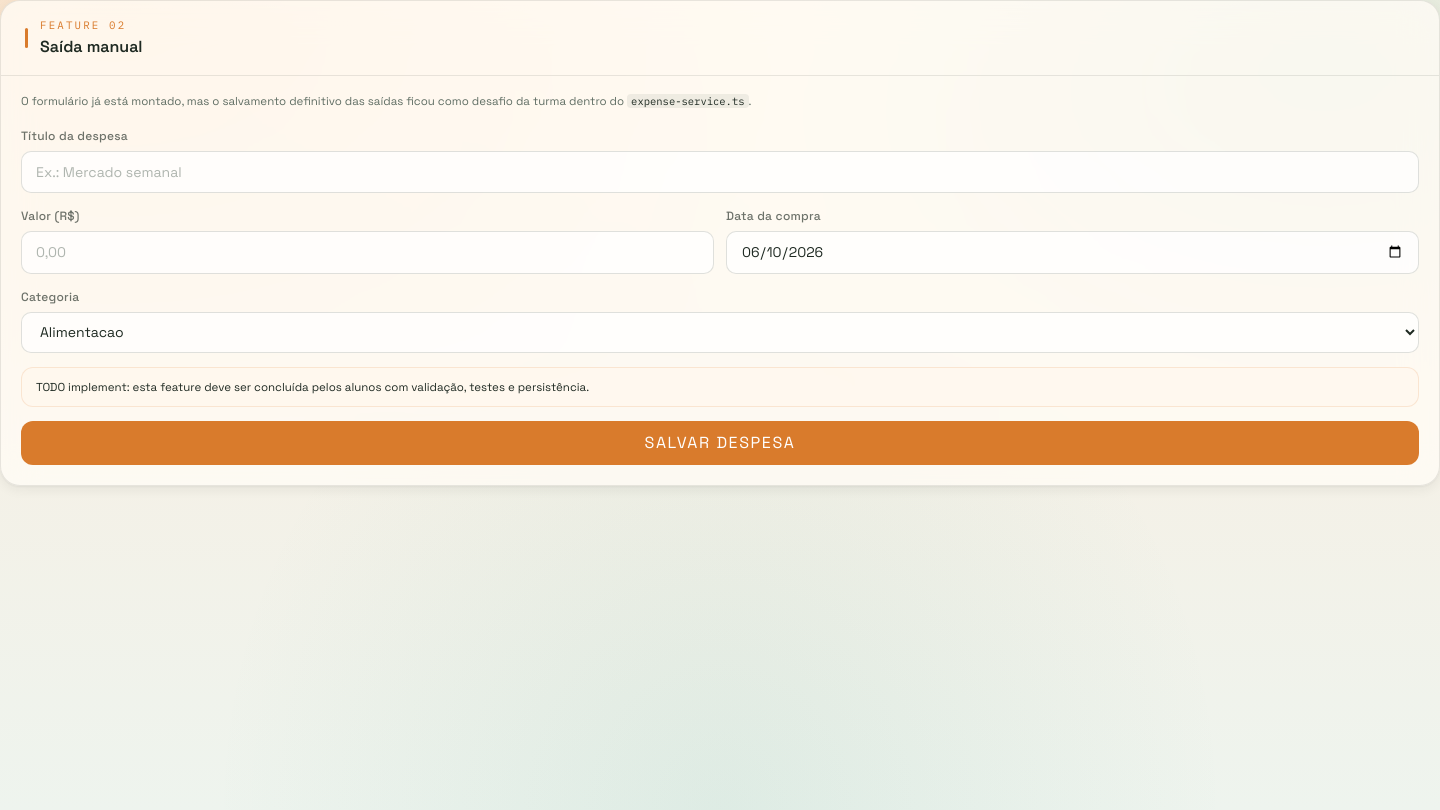
Test: ManualExpenseForm › bloqueia saidas manuais com valores invalidos
In the field labelled "Título da despesa": (720, 172) top-left (21, 151), bottom-right (1419, 193), type "Mercado"
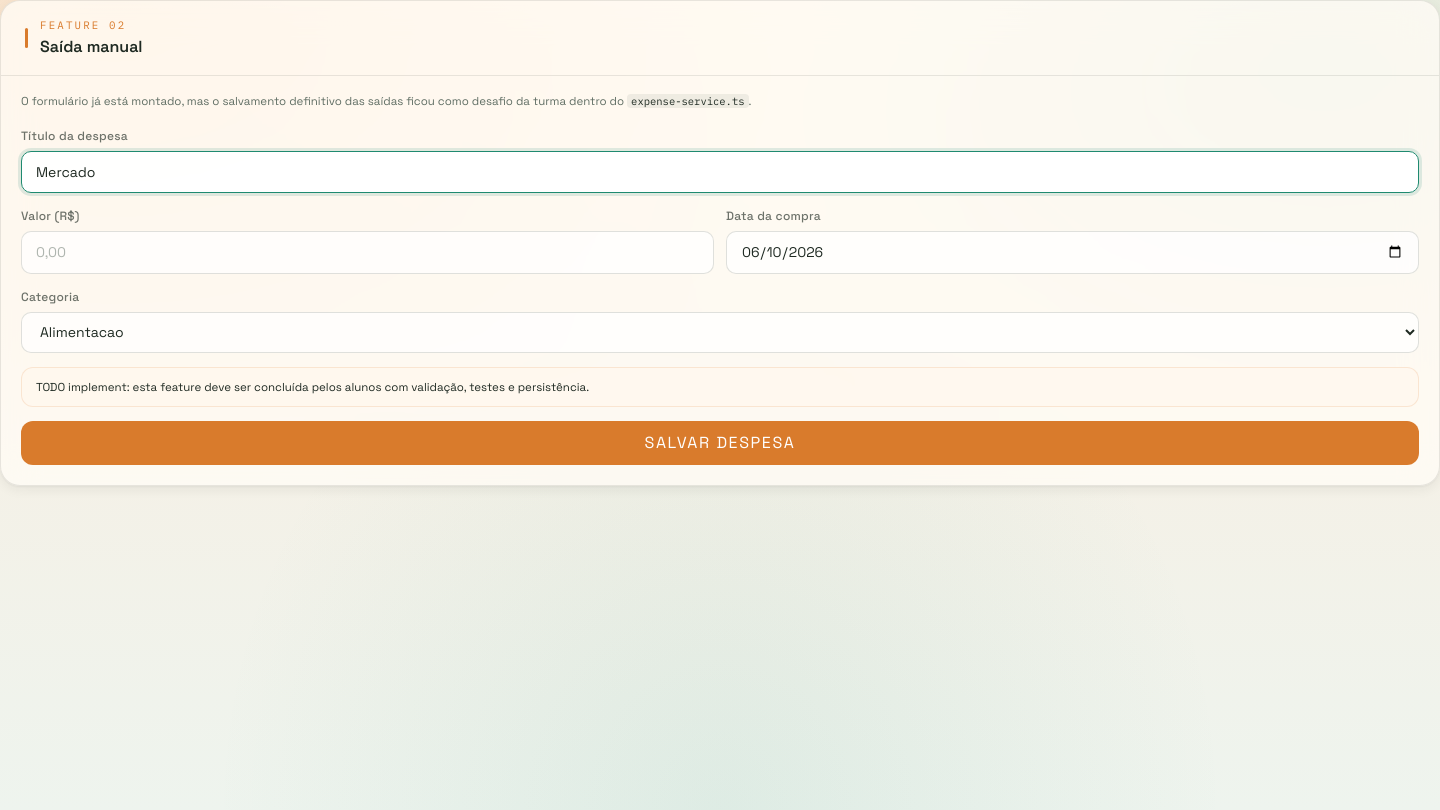
In the number field labelled "Valor (R$)": (368, 252) top-left (21, 231), bottom-right (714, 274), type "-12"
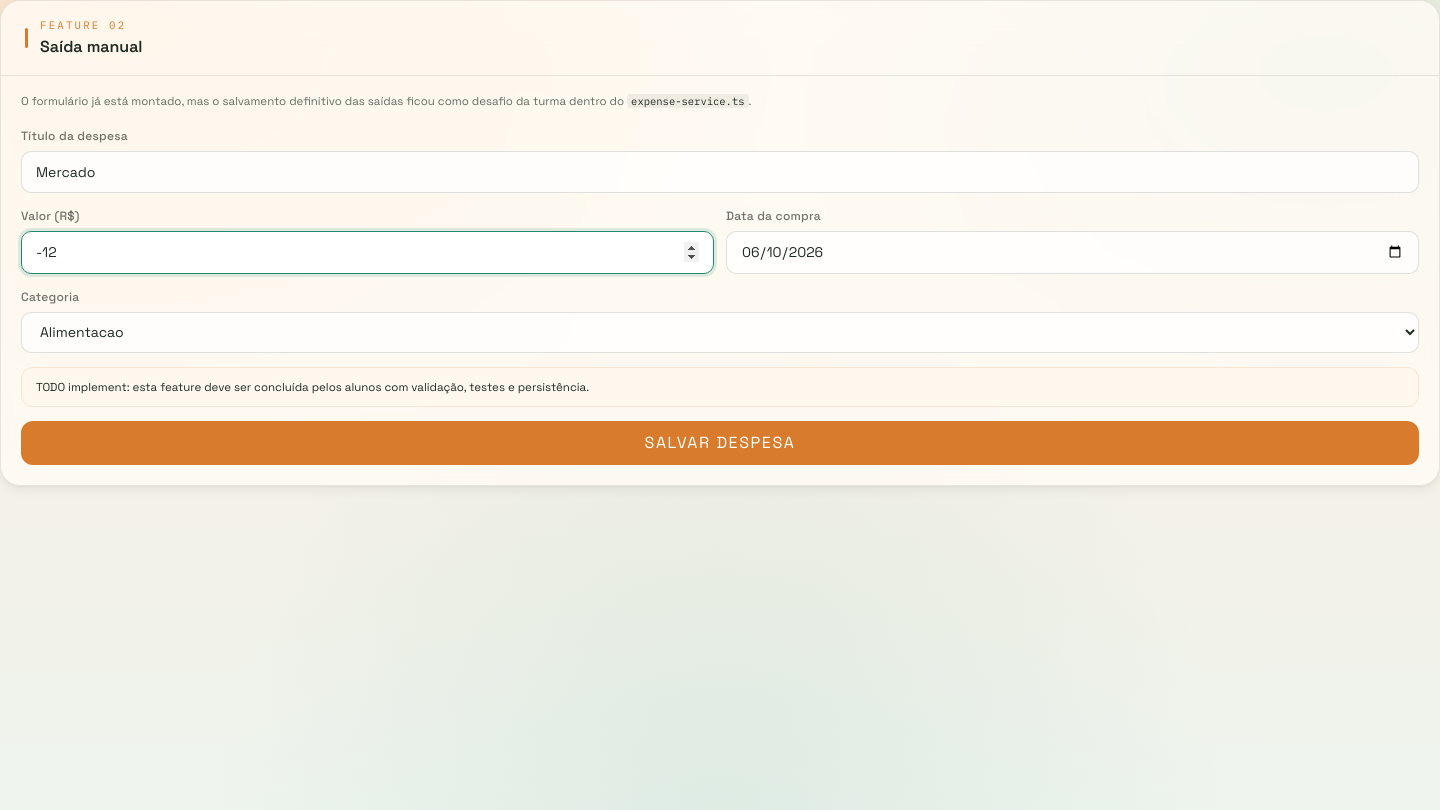
Click the button "Salvar despesa": (720, 443) top-left (21, 421), bottom-right (1419, 465)
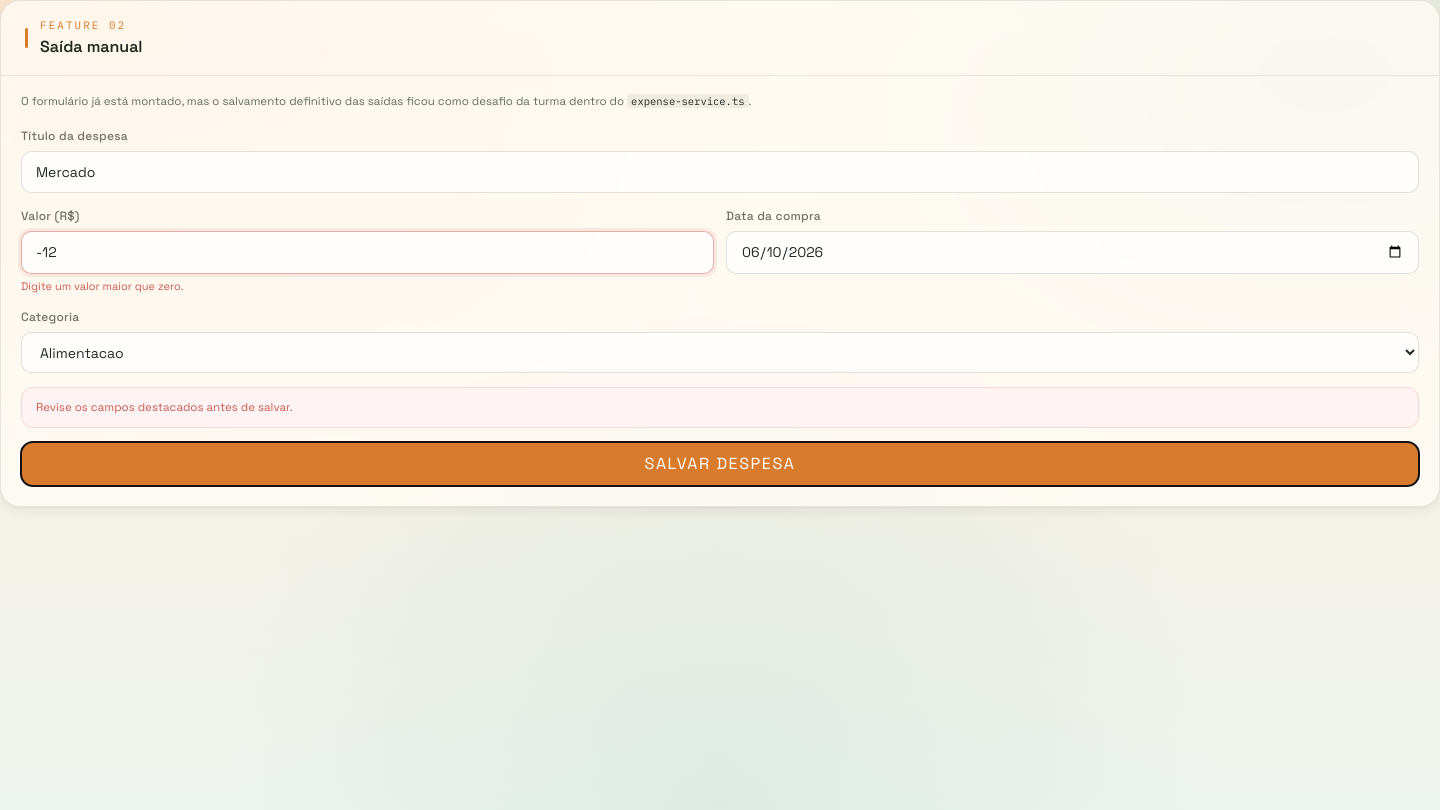
Expected: the text "Digite um valor maior que zero." is shown, top-left (21, 278), bottom-right (183, 292)
